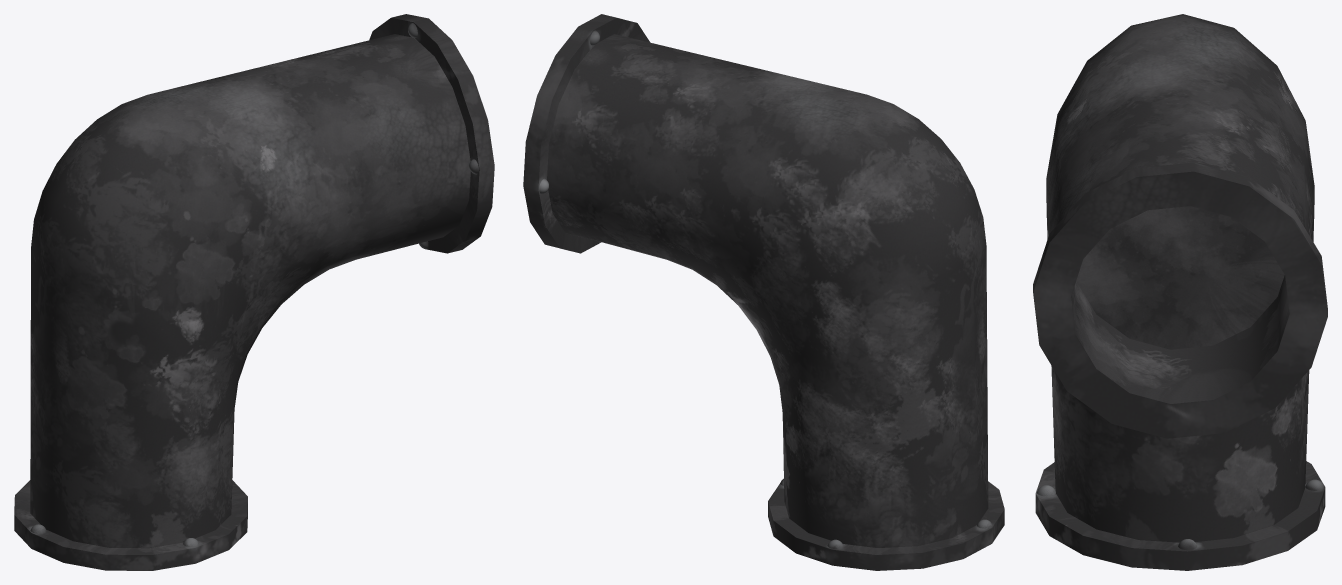
The model's file is Tuyaux_V3.fbx.
3 renders of one model, left to right at view 1: azimuth 30°, elevation 25°; view 2: azimuth 150°, elevation 25°; view 3: azimuth 270°, elevation 25°, orthographic. The views are drawn at different scales.
Visible parts, largest first — view 1: Tuyau_V3; view 2: Tuyau_V3; view 3: Tuyau_V3.
Part boxes in pixels (box(x1,y1,x2,y2)): Tuyau_V3: box(14, 14, 494, 570); Tuyau_V3: box(523, 14, 1004, 570); Tuyau_V3: box(1033, 14, 1327, 570).
Size of the model in its own units: 0.3407 by 0.3408 by 0.1755.
1 material, 1 textured.
